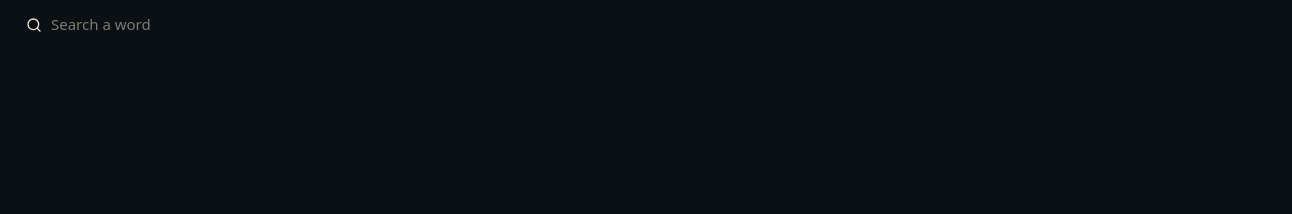
mobile offline dictionary › searches the installed local pack and opens a definition
Type "study" into the search field named "Search offline dictionary" at (665, 25), box [51,14,1279,36]
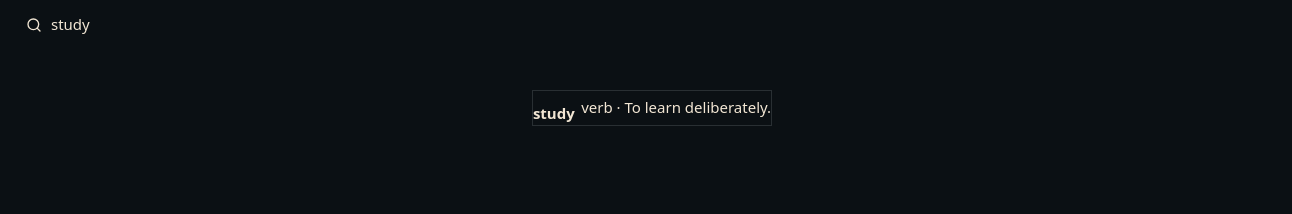
Click the button "study verb · To learn deliberately." at (652, 108), box [532,90,772,126]
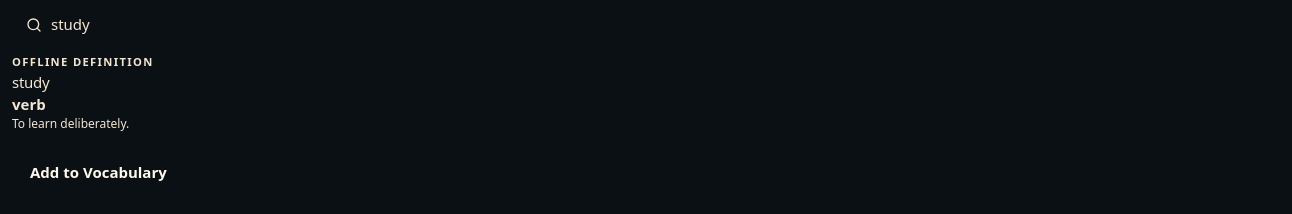
Check: the text "To learn deliberately." is shown, box [12,115,129,132]
Check: the button "Add to Vocabulary" is enabled, box [12,149,185,197]
